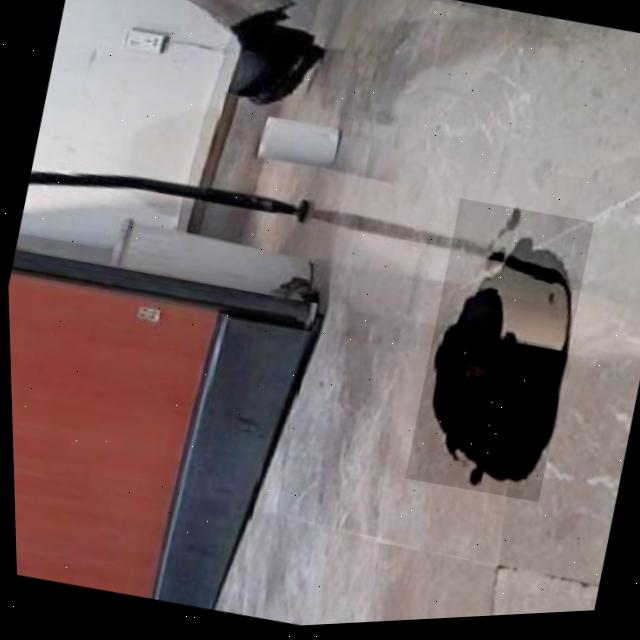spillage: (428, 215, 574, 499)
